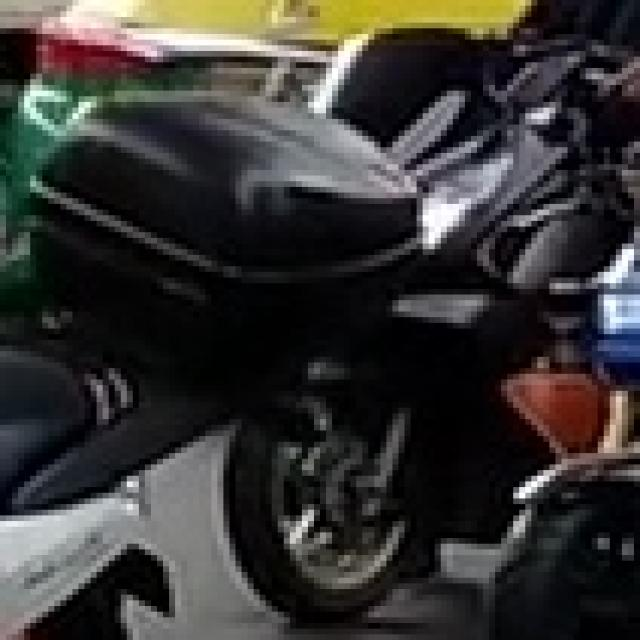tyre: (223, 391, 435, 617), (483, 453, 634, 634)
